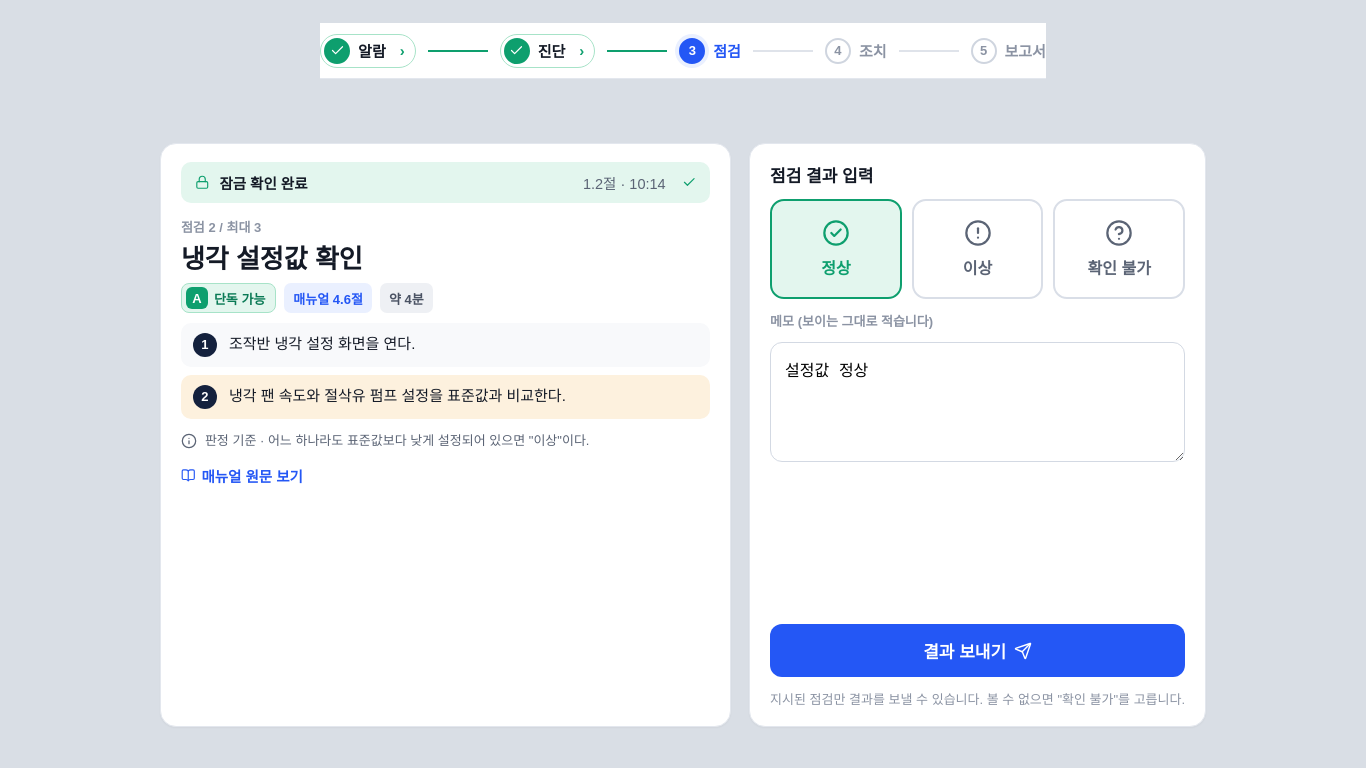
Scenario: 진행 표시 · 세션 연결(AC-41 · 생성자 해석 ①) › 세션: 지나온 단계를 누르면 /history로 그 단계 마지막 기록, '현재 단계로'면 지금 지시와 보내지 않은 입력 그대로(AC-41-C3)
Check: the heading "냉각 설정값 확인" is shown, box [181,244,363,274]
What coordinates should you click on to do the following:
click the button "진단"
I would click on:
 (548, 50)
Its box is [500,34,595,68].
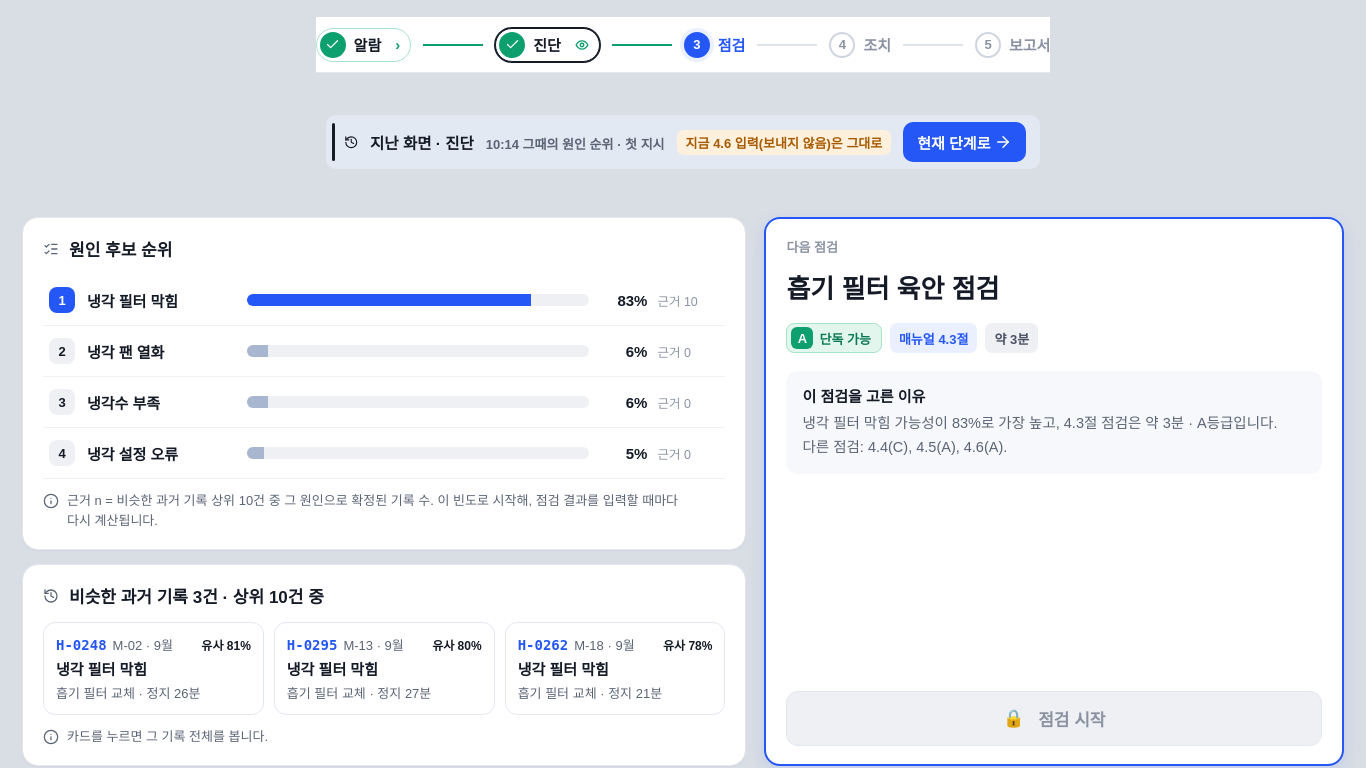
Check: the text "지난 화면 · 진단" is shown, box [370,131,474,153]
What coordinates should you click on to do the following:
click the button "3 점검"
I would click on:
 (697, 44)
Its box is [684,32,745,58].
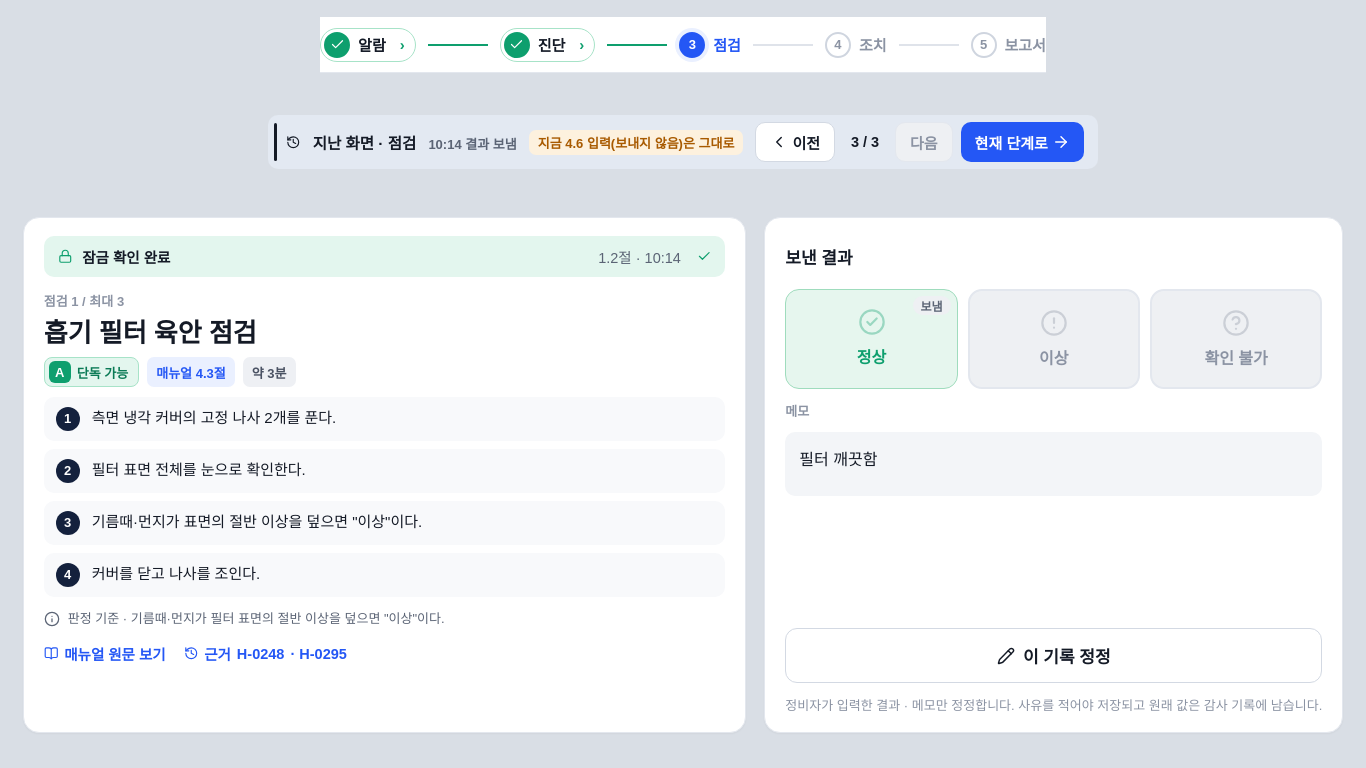
Check: the text with class "amber" reads "지금 4.6 입력(보내지 않음)은 그대로", box [529,130,743,154]
Check: the text "지난 화면 · 점검" is shown, box [313,131,416,153]
What coordinates should you click on to do the following:
click the button "현재 단계로"
I would click on:
 (1022, 142)
Its box is [961,122,1084,162].
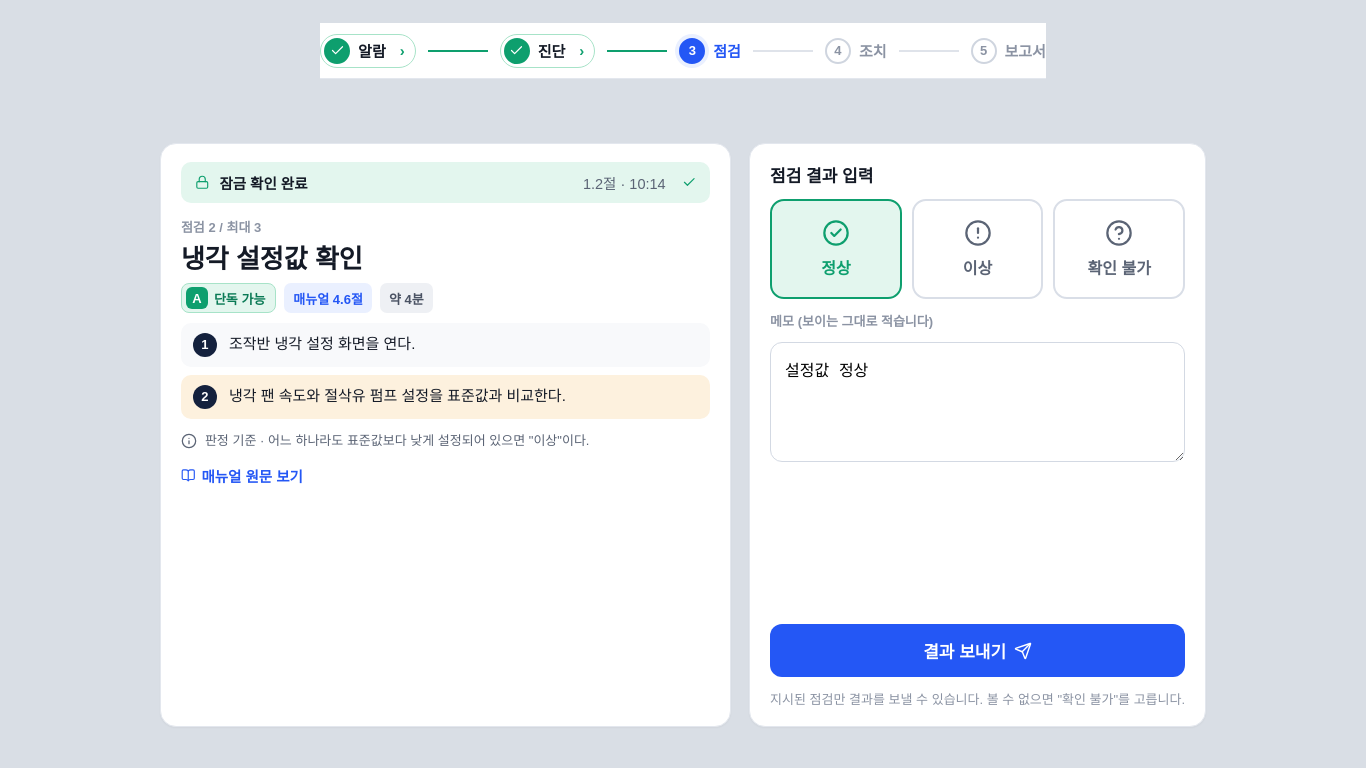
Check: the button with class "sel" reads "정상", box [770,199,902,299]
Check: the text box named "메모" holds "설정값 정상", box [770,342,1185,462]
